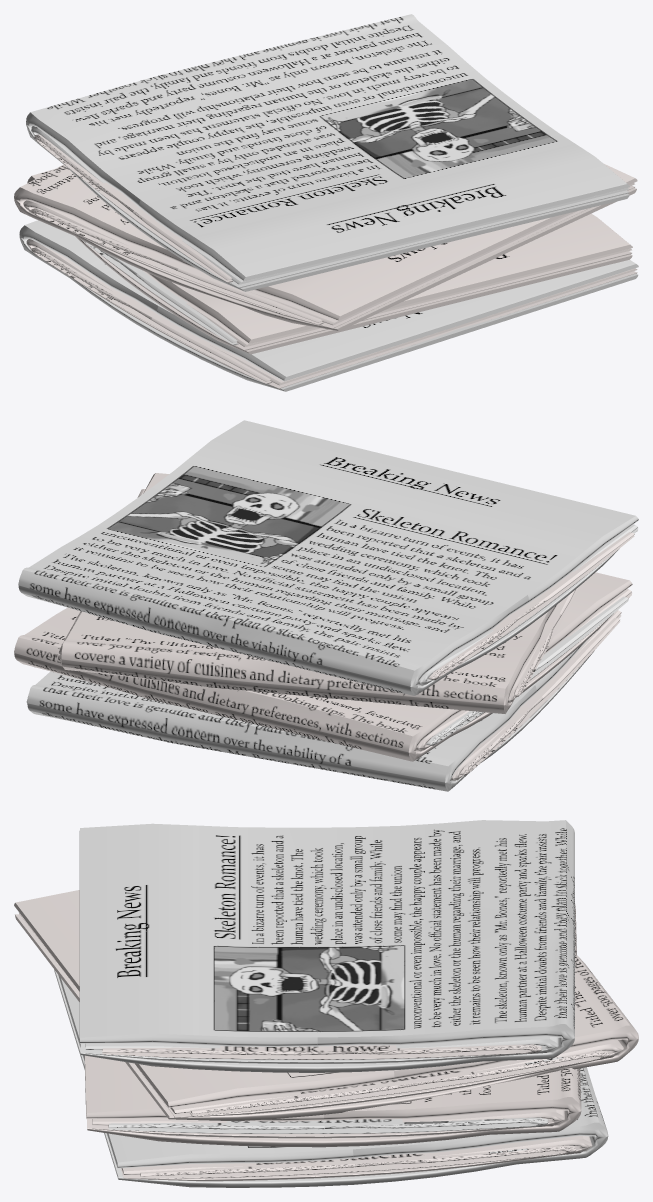
Rendered from AP_NewspaperStack_1CS.fbx.
3 views of the same model, one above another, from view 1: azimuth 30°, elevation 25°; view 2: azimuth 150°, elevation 25°; view 3: azimuth 270°, elevation 25° (orthographic). The views are drawn at different scales.
Parts seen in each view (by area): view 1: pasted__pasted__pCube1, pasted__pasted__pCube4, pasted__pasted__pasted__pCube2, pasted__pasted__pasted__pCube1, pasted__pasted__pCube2, pCube2, pasted__pCube1, pasted__pCube4, pasted__pCube2, pCube1, pasted__pasted__pCube3, pasted__pCube3; view 2: pasted__pasted__pCube1, pasted__pasted__pCube4, pasted__pasted__pasted__pCube2, pasted__pasted__pasted__pCube1, pCube1, pasted__pCube2, pasted__pCube3, pCube2, pasted__pCube1, pasted__pasted__pCube3, pasted__pasted__pCube2; view 3: pasted__pasted__pCube1, pasted__pasted__pCube4, pasted__pasted__pasted__pCube1, pasted__pasted__pasted__pCube2, pasted__pCube2, pCube1, pasted__pCube3, pCube2, pasted__pasted__pCube2, pasted__pCube1, pasted__pasted__pCube3, pasted__pCube4.
Part boxes in pixels (x1,y1,x2,y2): pasted__pasted__pCube1: (26, 14, 629, 291); pasted__pasted__pCube4: (14, 163, 637, 331); pasted__pasted__pasted__pCube2: (19, 220, 638, 391); pasted__pasted__pasted__pCube1: (27, 169, 632, 354); pasted__pasted__pCube2: (26, 239, 637, 389); pCube2: (31, 208, 323, 324); pasted__pCube1: (31, 126, 629, 288); pasted__pCube4: (23, 183, 634, 328); pasted__pCube2: (31, 247, 272, 383); pCube1: (34, 134, 233, 282); pasted__pasted__pCube3: (101, 248, 631, 350); pasted__pCube3: (82, 240, 238, 345); pasted__pasted__pCube1: (18, 420, 638, 695); pasted__pasted__pCube4: (59, 473, 558, 713); pasted__pasted__pasted__pCube2: (26, 614, 620, 791); pasted__pasted__pasted__pCube1: (14, 572, 632, 761); pCube1: (428, 532, 634, 680); pasted__pCube2: (460, 618, 620, 775); pasted__pCube3: (426, 596, 628, 745); pCube2: (58, 489, 578, 696); pasted__pCube1: (417, 524, 637, 685); pasted__pasted__pCube3: (415, 589, 631, 751); pasted__pasted__pCube2: (451, 610, 621, 780); pasted__pasted__pCube1: (79, 820, 574, 1072); pasted__pasted__pCube4: (14, 890, 638, 1121); pasted__pasted__pasted__pCube1: (84, 904, 581, 1147); pasted__pasted__pasted__pCube2: (54, 969, 608, 1187); pasted__pCube2: (140, 1145, 576, 1178); pCube1: (102, 1044, 541, 1059); pasted__pCube3: (108, 1117, 548, 1133); pCube2: (190, 1050, 609, 1116); pasted__pasted__pCube2: (121, 1136, 592, 1181); pasted__pCube1: (85, 1036, 558, 1063); pasted__pasted__pCube3: (91, 1109, 564, 1138); pasted__pCube4: (19, 912, 623, 1117).
Size of the model in its own units: 1.46 by 0.4097 by 1.45.
3 materials, 3 textured.
